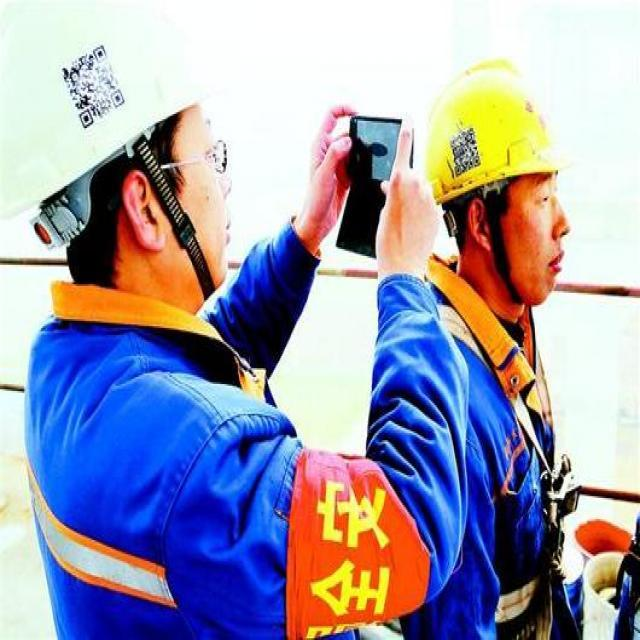reflective_jacket: (6, 315, 276, 633), (421, 252, 562, 639)
safety_helmet: (2, 7, 208, 219), (420, 50, 572, 205)
